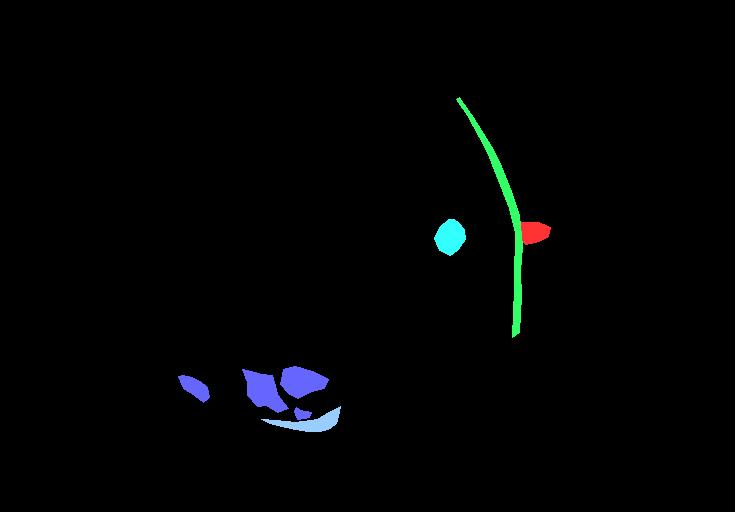Broken part: (456, 97, 522, 337)
Corrosion: (261, 406, 340, 431)
Flaking: (434, 219, 465, 255)
Missing part: (520, 222, 550, 244)
Scratch: (242, 369, 288, 412), (280, 366, 328, 398), (178, 375, 209, 402), (294, 407, 311, 419)
